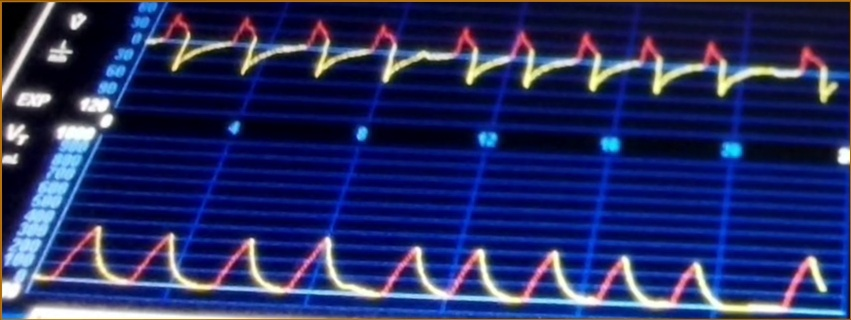Ineffective_effort Flow: (151, 11, 838, 110)
Ineffective_effort Volume: (46, 222, 826, 313)
